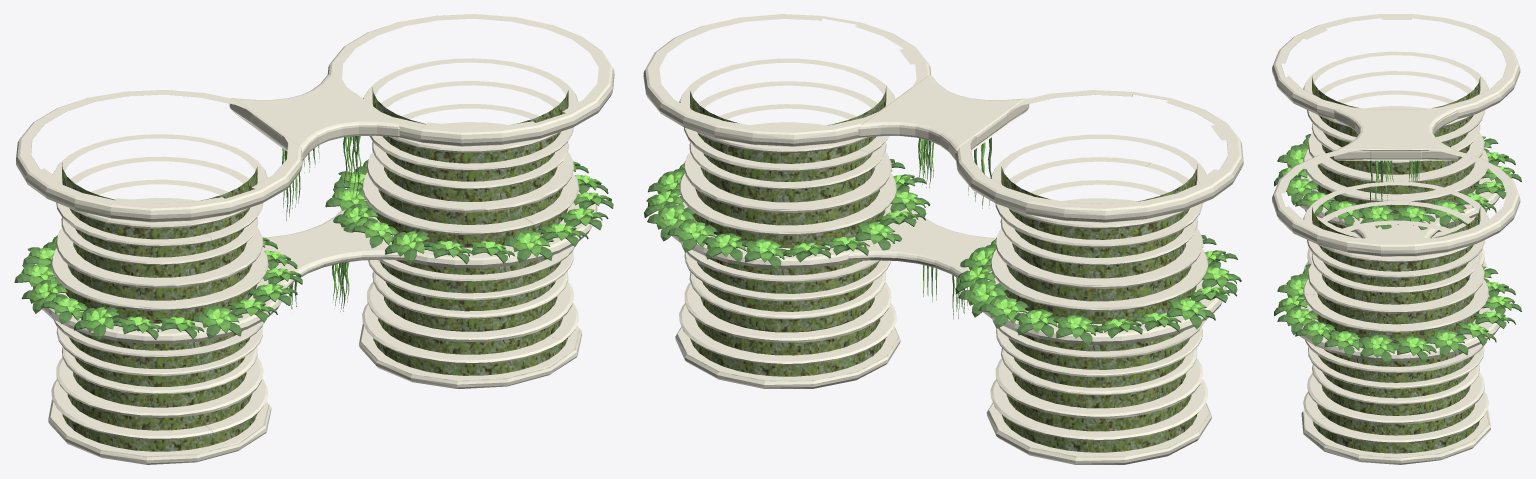
File: building_feuille_Draco.glb
3 renders of one model, left to right at view 1: azimuth 30°, elevation 25°; view 2: azimuth 150°, elevation 25°; view 3: azimuth 270°, elevation 25°, orthographic. The views are drawn at different scales.
Parts seen in each view (by area): view 1: building2_opti; view 2: building2_opti; view 3: building2_opti.
Part boxes in pixels (<box>): building2_opti: <box>14,14,614,464</box>; building2_opti: <box>643,14,1243,464</box>; building2_opti: <box>1272,14,1521,464</box>.
Bounding box in the file's own units: 11.84 × 5.46 × 5.35.
1 material, 1 textured.
